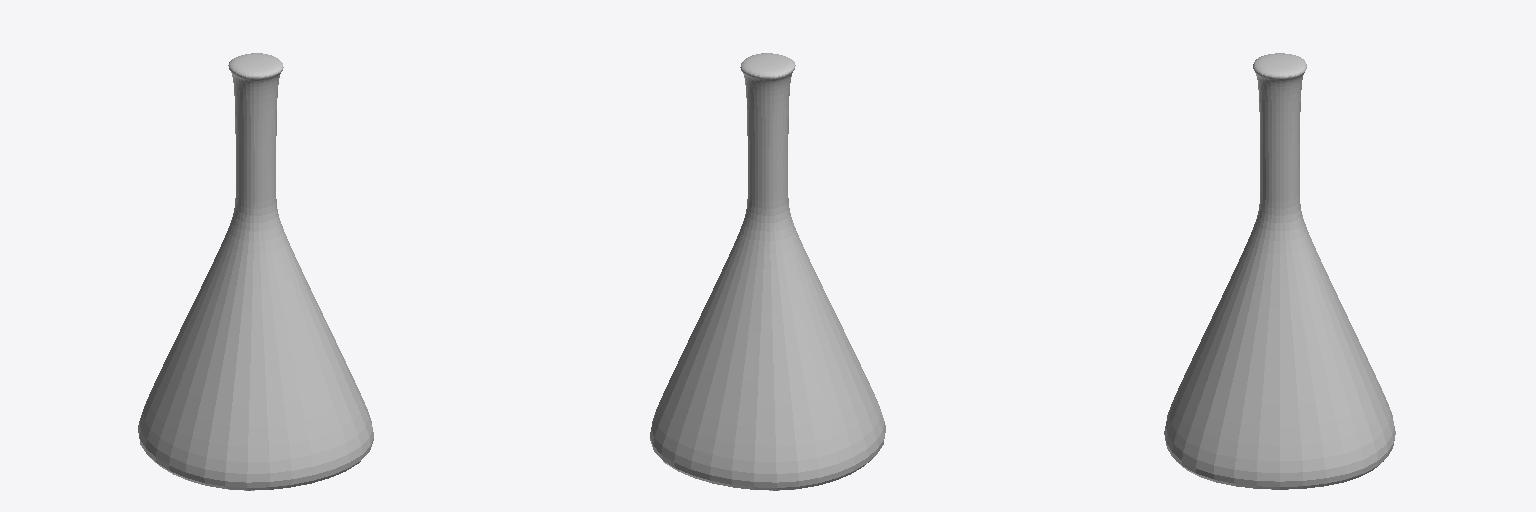
File: Poution.obj
3 views of the same model, side by side, from view 1: azimuth 30°, elevation 25°; view 2: azimuth 150°, elevation 25°; view 3: azimuth 270°, elevation 25° (orthographic).
Visible parts, largest first — view 1: Cube; view 2: Cube; view 3: Cube.
Part boxes in pixels (left/top/right/bottom): Cube: left=138, top=53, right=373, bottom=490; Cube: left=650, top=53, right=885, bottom=490; Cube: left=1164, top=53, right=1395, bottom=489.
Bounding box in the file's own units: 1.74 × 3.23 × 1.74.